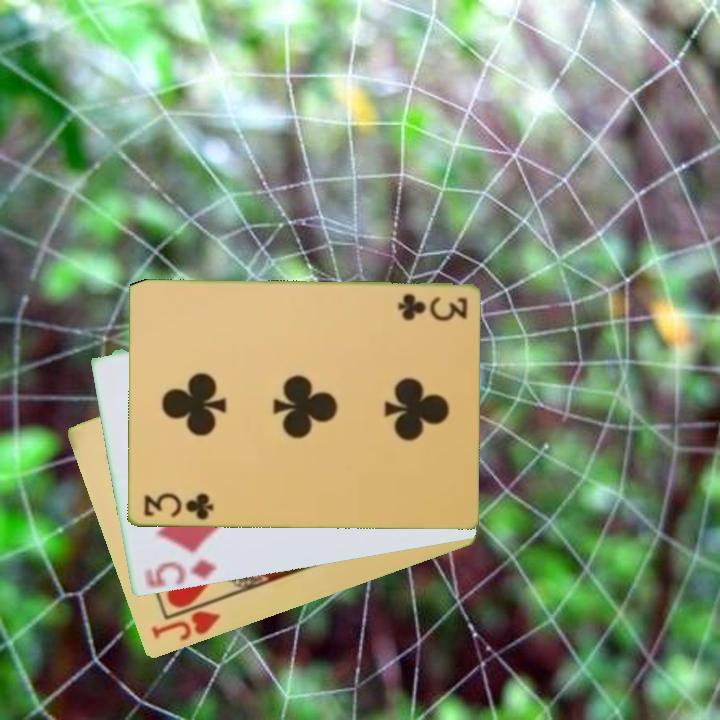3c: (140, 490, 216, 523), (394, 290, 470, 320)
5d: (140, 556, 219, 591)
Jh: (147, 607, 223, 644)
